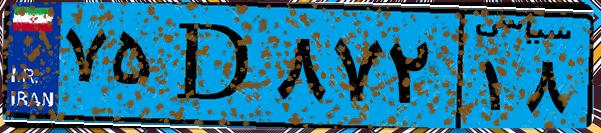1: (475, 38, 525, 113)
2: (385, 28, 445, 110)
5: (110, 28, 158, 98)
7: (330, 28, 385, 110), (57, 26, 110, 100)
8: (270, 28, 330, 110), (525, 38, 570, 115)
D: (158, 12, 270, 120)
